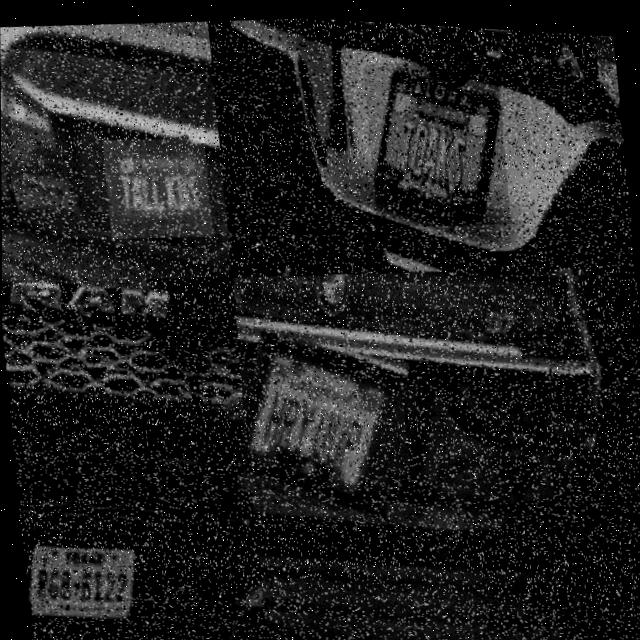LicensePlate: (229, 322, 413, 523), (362, 47, 511, 228), (102, 131, 212, 242), (25, 546, 133, 626)
